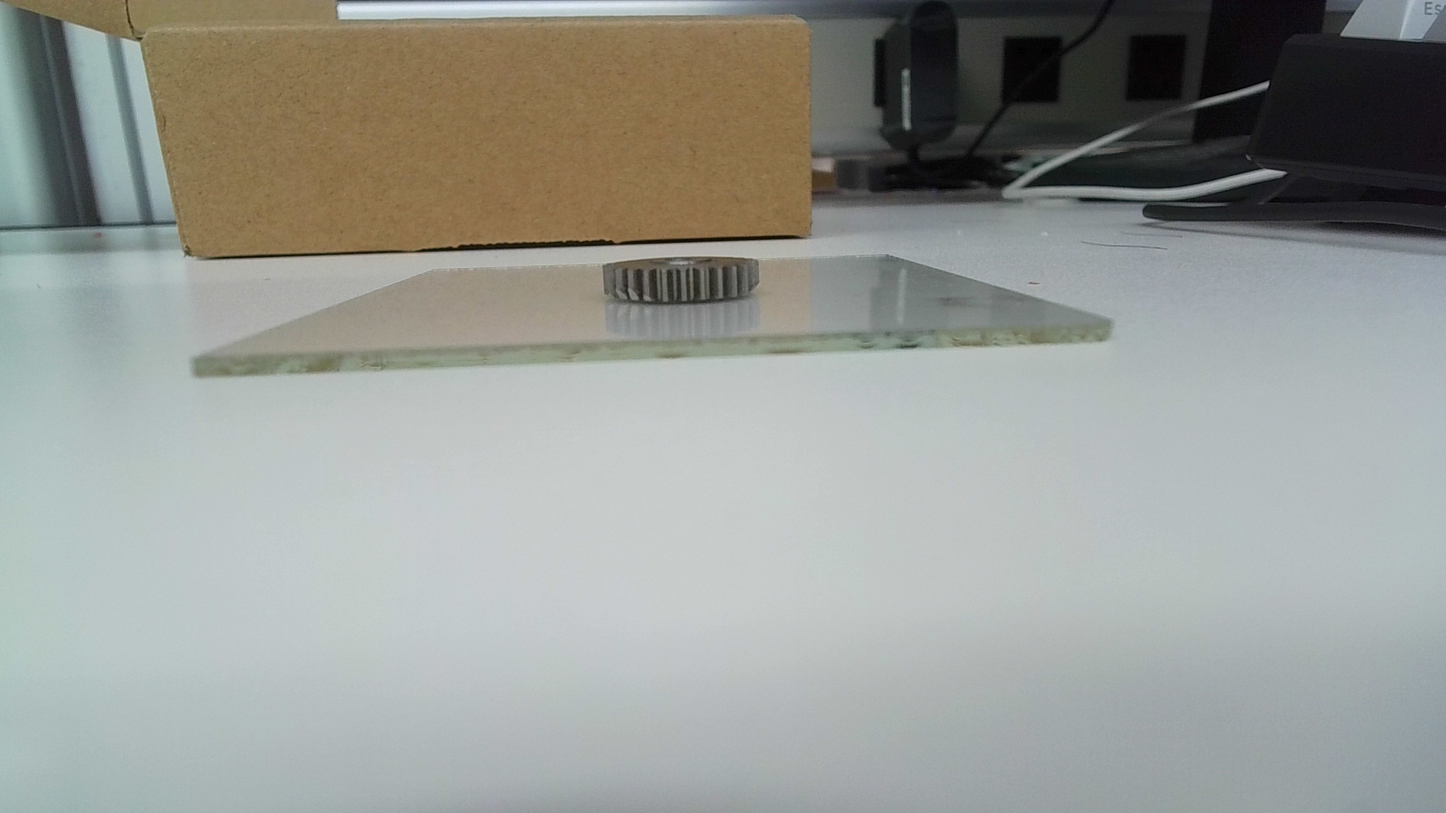gear: (602, 254, 766, 307)
